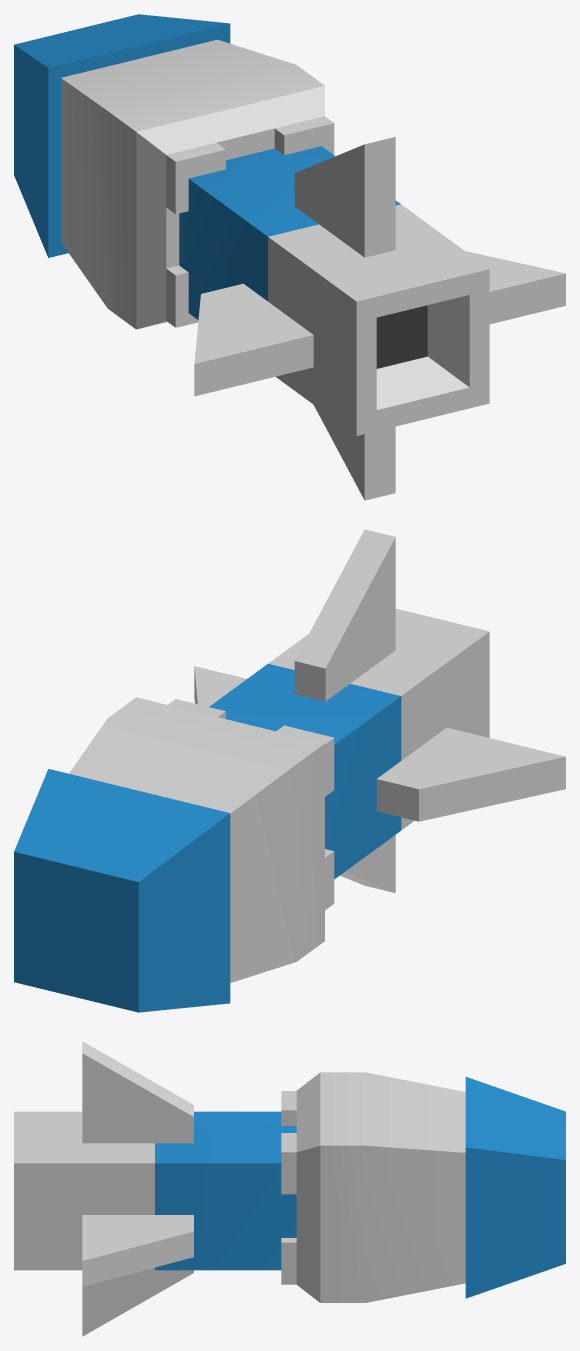
File: Missile.fbx
3 views of the same model, one above another, from view 1: azimuth 30°, elevation 25°; view 2: azimuth 150°, elevation 25°; view 3: azimuth 270°, elevation 25° (orthographic). The views are drawn at different scales.
Visible parts, largest first — view 1: engine_default_3, engine_plane_2, plane_elevator_5, plane_elevator_7, plane_elevator_4, plane_elevator_6; view 2: engine_default_3, engine_plane_2, plane_elevator_5, plane_elevator_7, plane_elevator_6, plane_elevator_4; view 3: engine_default_3, engine_plane_2, plane_elevator_7, plane_elevator_4, plane_elevator_6.
Boxes of the visible parts, x1,y1,x2,y2 form: engine_default_3: [14, 14, 334, 329]; engine_plane_2: [179, 146, 489, 435]; plane_elevator_5: [194, 283, 313, 396]; plane_elevator_7: [294, 137, 395, 257]; plane_elevator_4: [465, 251, 565, 324]; plane_elevator_6: [314, 405, 395, 500]; engine_default_3: [14, 697, 334, 1012]; engine_plane_2: [209, 608, 489, 879]; plane_elevator_5: [376, 727, 565, 821]; plane_elevator_7: [294, 529, 395, 701]; plane_elevator_6: [340, 835, 395, 893]; plane_elevator_4: [194, 666, 246, 706]; engine_default_3: [281, 1072, 565, 1302]; engine_plane_2: [14, 1111, 296, 1270]; plane_elevator_7: [82, 1041, 193, 1143]; plane_elevator_4: [82, 1215, 193, 1286]; plane_elevator_6: [82, 1270, 193, 1336].
Bounding box in the file's own units: 12 × 11 × 19.4.
